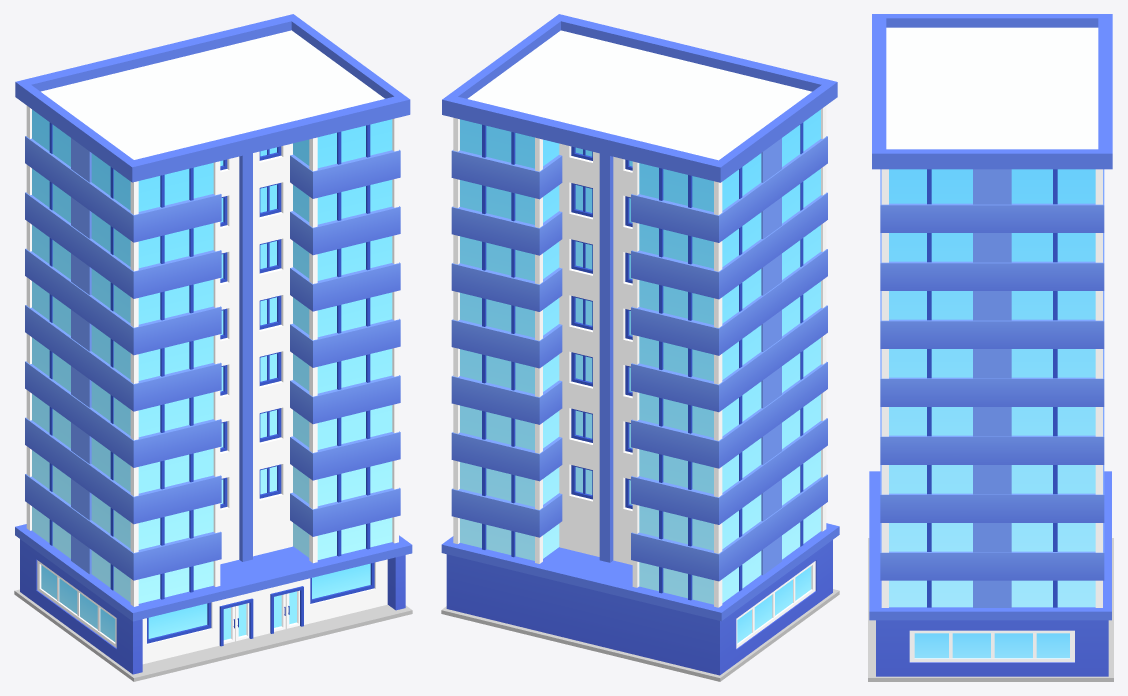
The model's file is Building_Living_55.glb.
3 views of the same model, side by side, from view 1: azimuth 30°, elevation 25°; view 2: azimuth 150°, elevation 25°; view 3: azimuth 270°, elevation 25° (orthographic). The views are drawn at different scales.
Visible parts, largest first — view 1: Building_Living_55; view 2: Building_Living_55; view 3: Building_Living_55.
Part boxes in pixels (x1,y1,x2,y2): Building_Living_55: [14, 14, 412, 681]; Building_Living_55: [441, 14, 839, 681]; Building_Living_55: [868, 14, 1113, 681].
Bounding box in the file's own units: 17.22 × 30.2 × 12.74.
1 material, 1 textured.
